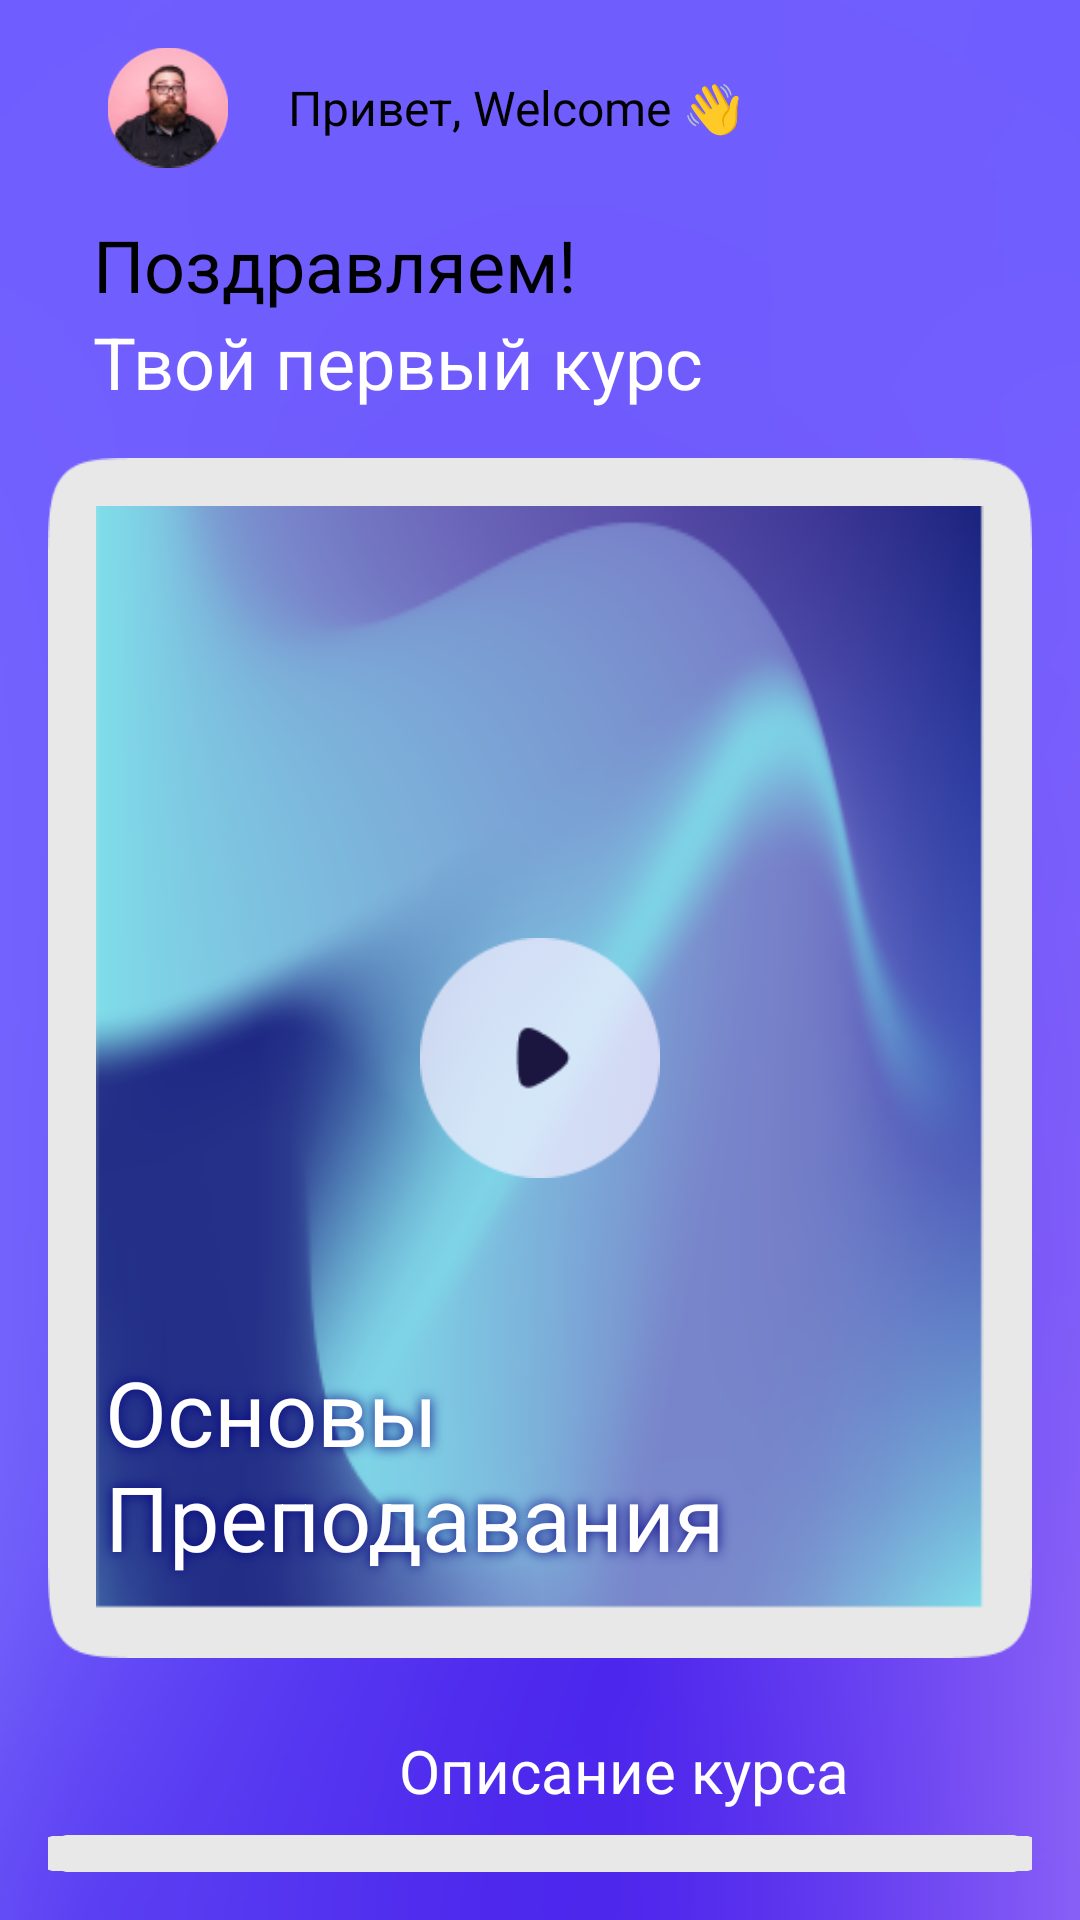

Icons on this 1080x1920 Android screen, each with its box as (x1, y1, x2, y2):
play: (420, 938, 660, 1178)
